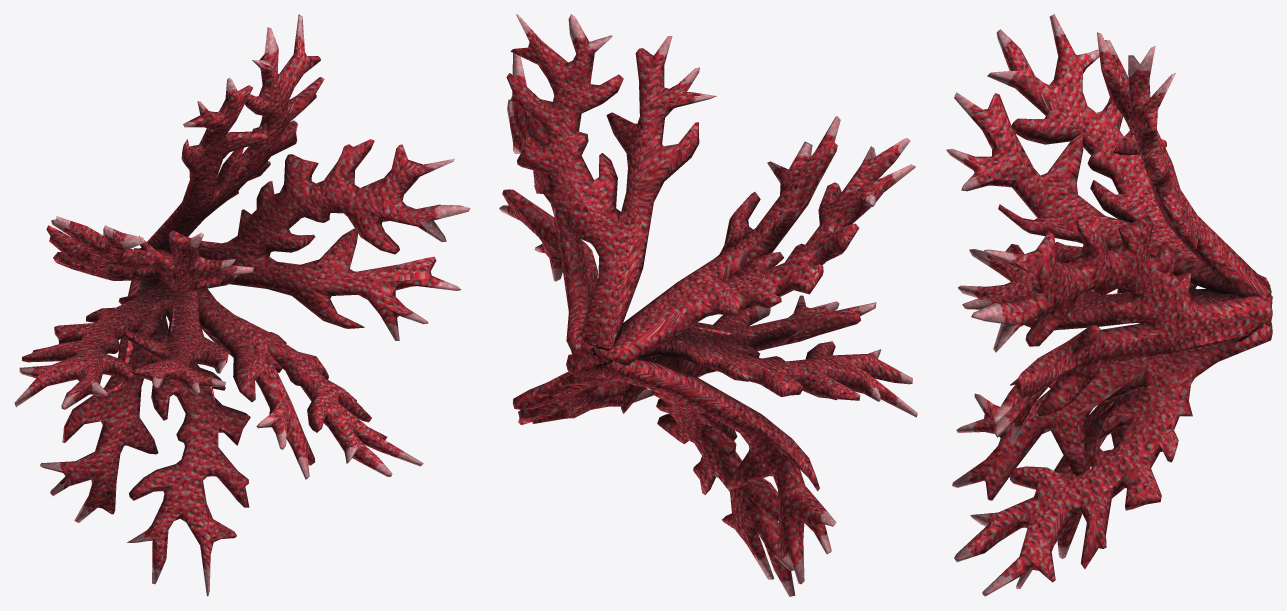
File: 10010_Coral_v1_L3.obj
3 renders of one model, left to right at view 1: azimuth 30°, elevation 25°; view 2: azimuth 150°, elevation 25°; view 3: azimuth 270°, elevation 25°, orthographic. The views are drawn at different scales.
Visible parts, largest first — view 1: 10010_Coral_v1_L3; view 2: 10010_Coral_v1_L3; view 3: 10010_Coral_v1_L3.
Boxes of the visible parts, bbox=[...] form: 10010_Coral_v1_L3: bbox=[14, 14, 470, 596]; 10010_Coral_v1_L3: bbox=[499, 14, 917, 596]; 10010_Coral_v1_L3: bbox=[946, 14, 1272, 596].
Bounding box in the file's own units: 70.22 × 82.9 × 40.09.
1 material, 1 textured.
